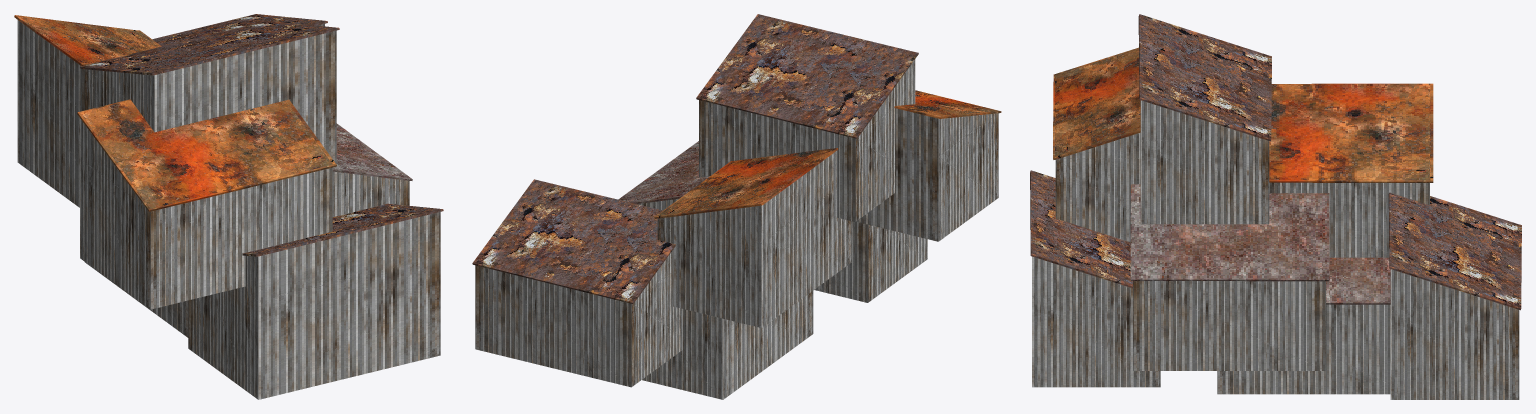
The model's file is Shantytown_section_1.glb.
3 views of the same model, side by side, from view 1: azimuth 30°, elevation 25°; view 2: azimuth 150°, elevation 25°; view 3: azimuth 270°, elevation 25° (orthographic). The views are drawn at different scales.
Visible parts, largest first — view 1: Main; view 2: Main; view 3: Main.
Part boxes in pixels (box(x1,y1,x2,y2)): Main: box(14, 14, 443, 399); Main: box(472, 14, 1001, 399); Main: box(1030, 14, 1521, 399).
Size of the model in its own units: 54.04 by 45.12 by 69.36.
4 materials, 4 textured.
